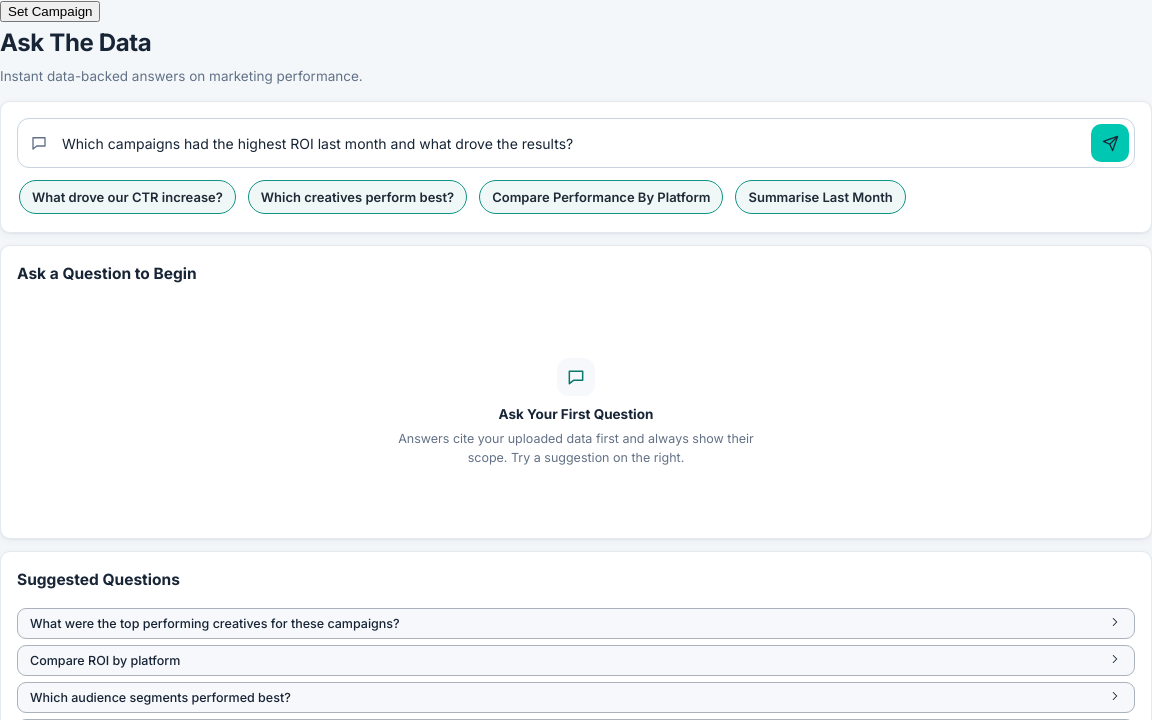
Test: AskPage answer scope › shows an ask failure without leaving the composer busy
This screenshot has width=1152, height=720.
Click the button named "Ask": (1110, 143) [1091, 124, 1129, 162]
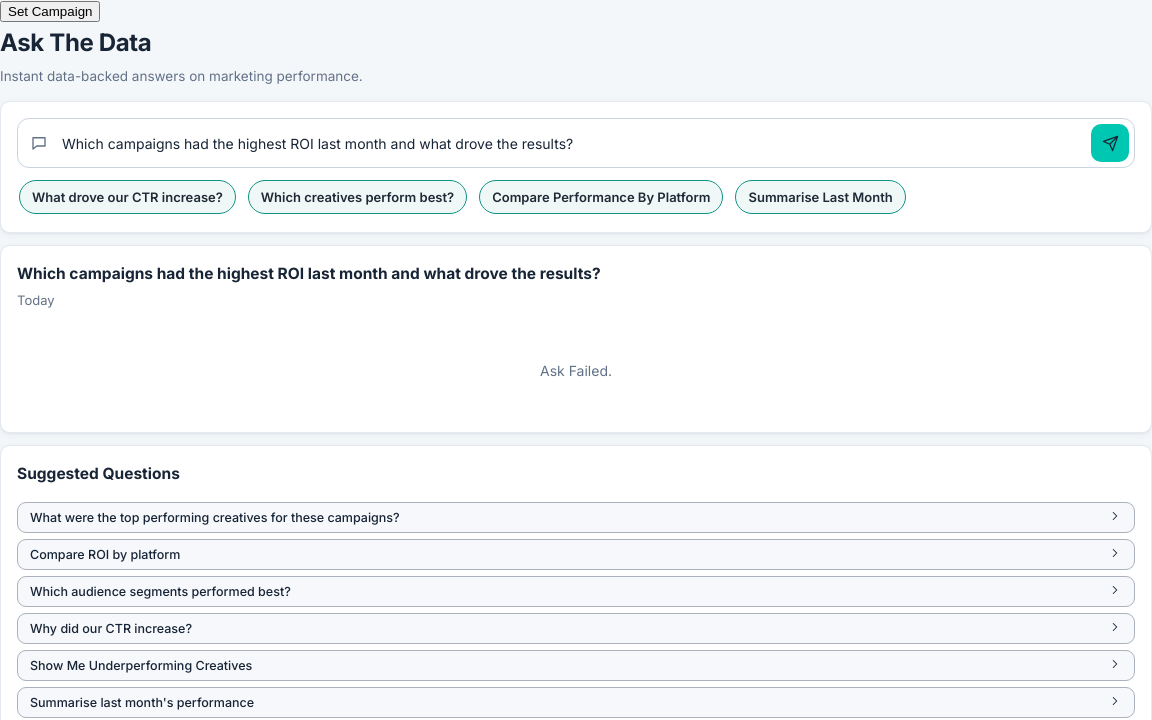
Expected: the text "Ask Failed." is shown, [540, 362, 612, 379]
